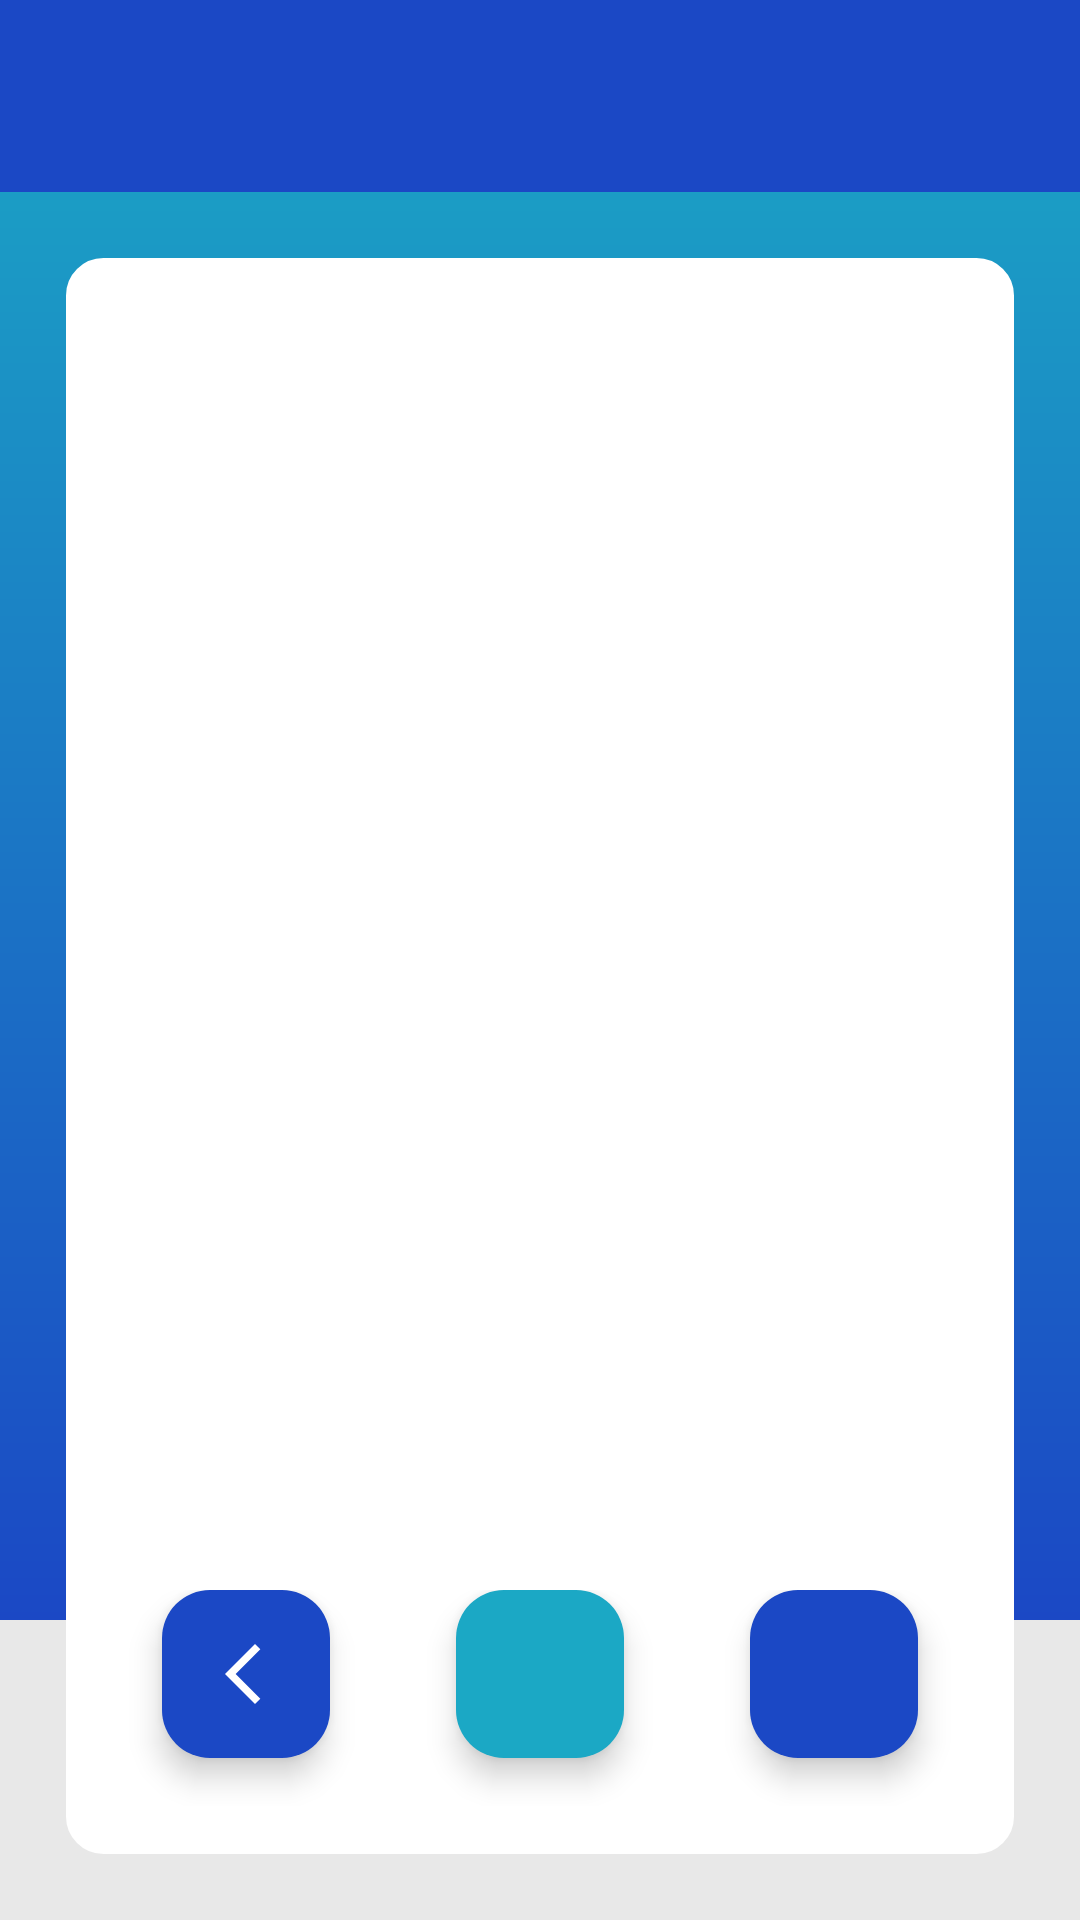

Named icons in this screenshot (1080*1920) and their bounding boxes, (x1, y1, x2, y2):
Back to previous Page Icon: (162, 1590, 330, 1758)
